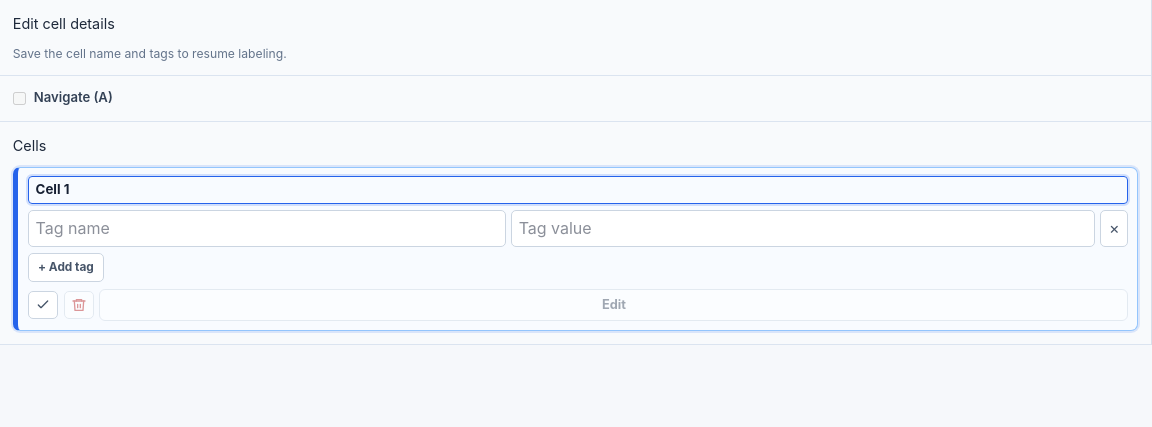
Test: AnalysisMaskSidebar › rejects duplicate Cell tag names without regard to casing
This screenshot has width=1152, height=427.
Type "State" into the field named "Tag name 1 for Cell 1" at (267, 228), box [28, 210, 506, 247]
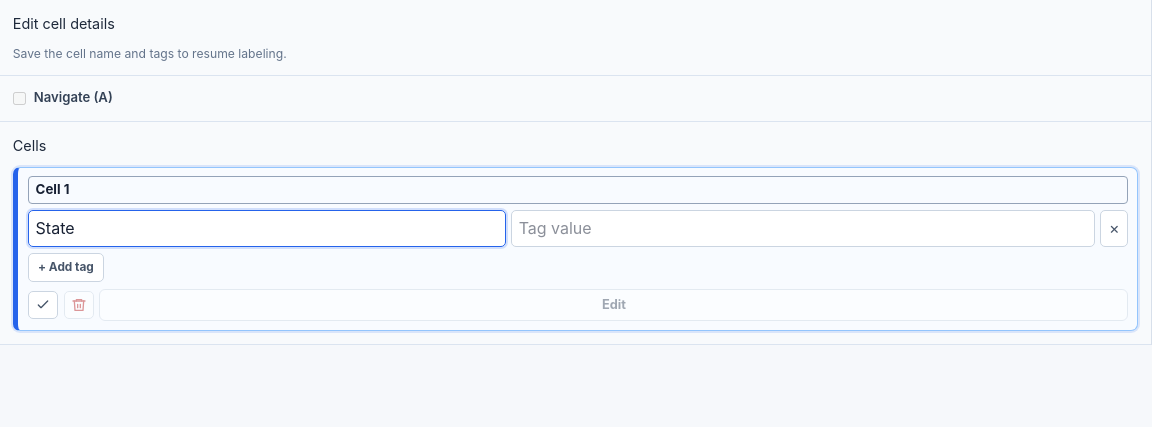
Click the button "+ Add tag" at (66, 268), box [28, 253, 104, 282]
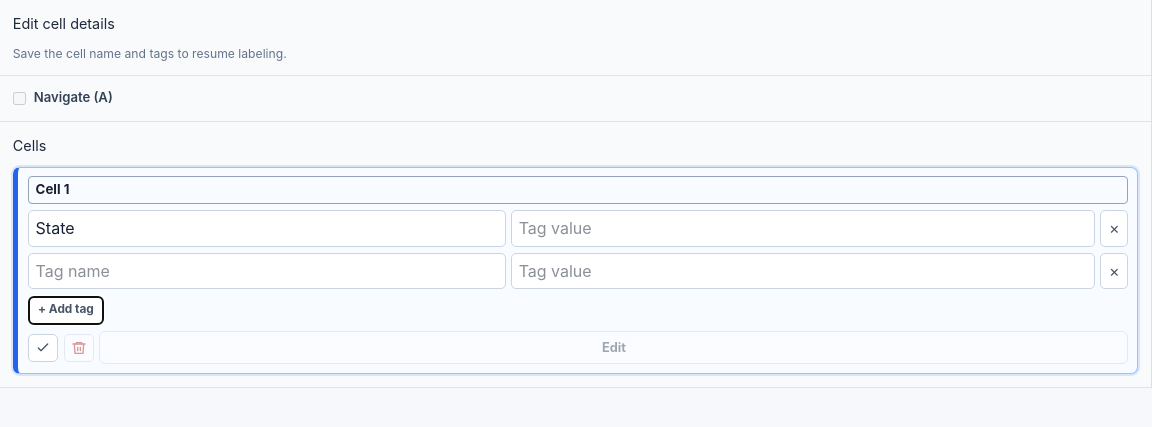
Type "state" into the field named "Tag name 2 for Cell 1" at (267, 271), box [28, 253, 506, 289]
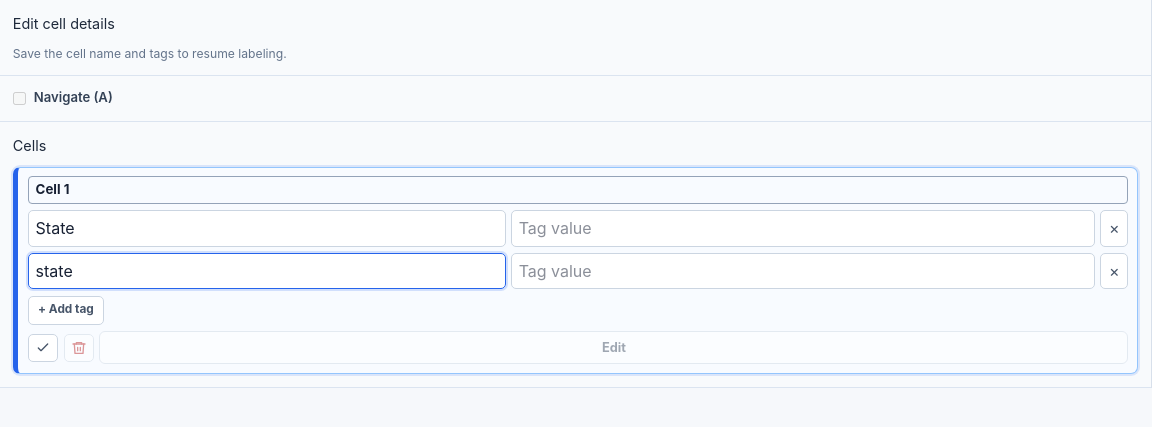
Click the button named "Save name and tags for Cell 1" at (43, 348), box [28, 334, 58, 362]
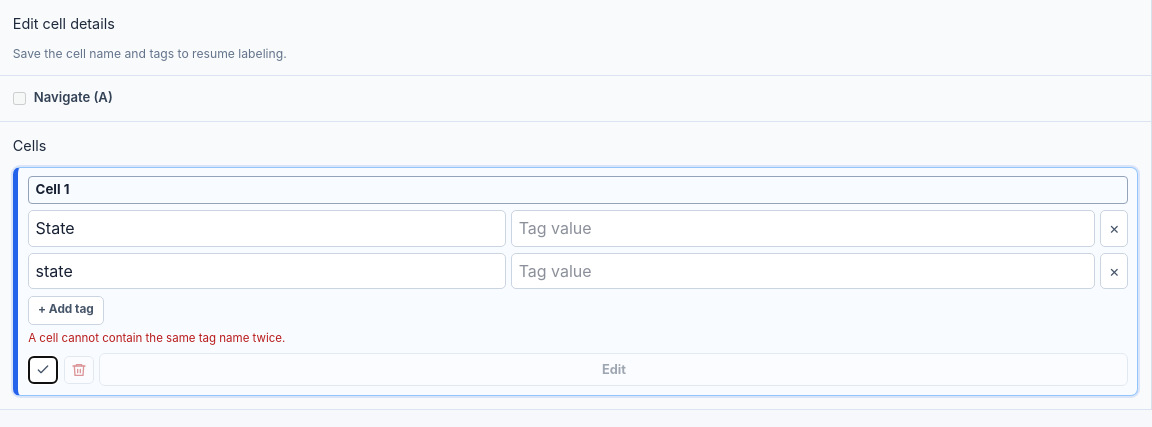
expect the message reads "A cell cannot contain the same tag name twice.": met, box [28, 331, 285, 345]
